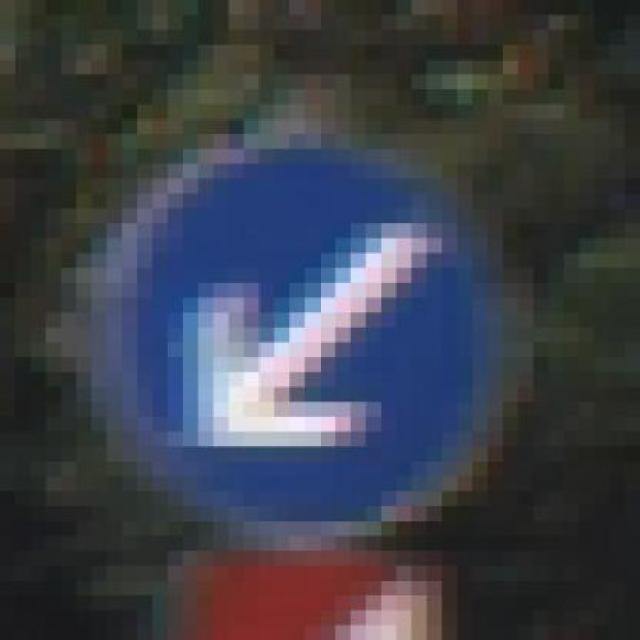Keep-Left: (106, 89, 534, 551)
